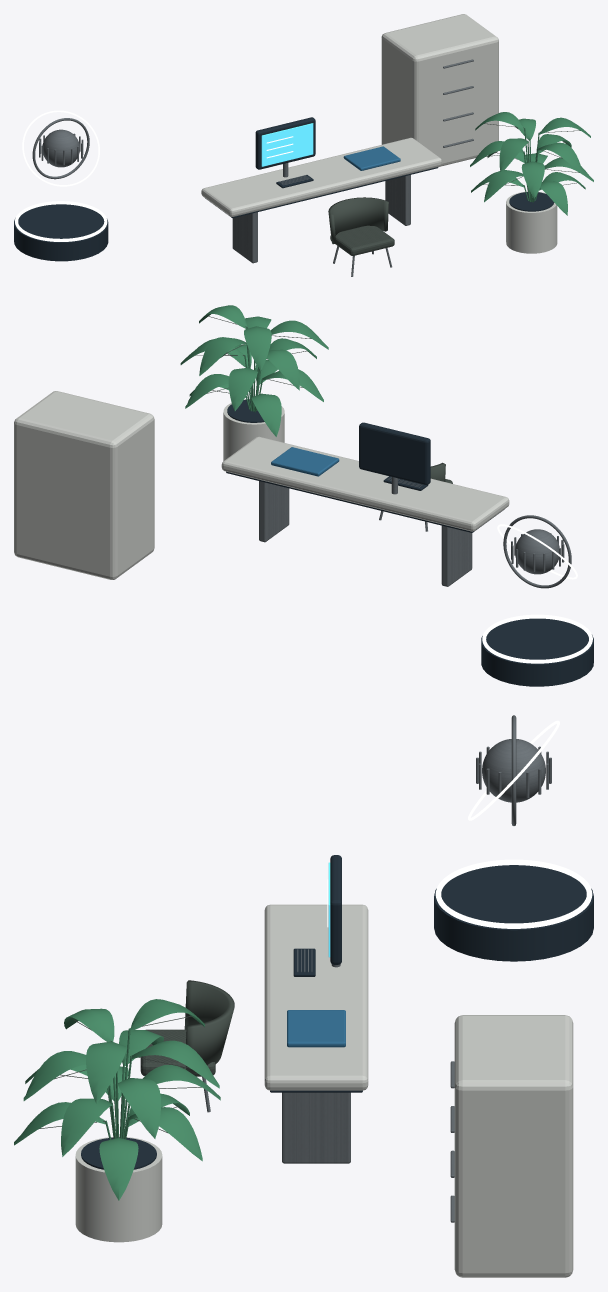
File: founder.glb
3 views of the same model, one above another, from view 1: azimuth 30°, elevation 25°; view 2: azimuth 150°, elevation 25°; view 3: azimuth 270°, elevation 25° (orthographic). The views are drawn at different scales.
Visible parts, largest first — view 1: Static_founder, Float_Core.002, Spin_OrbitA.002, Spin_OrbitB.002; view 2: Static_founder, Float_Core.002, Spin_OrbitA.002; view 3: Static_founder, Float_Core.002.
Boxes of the visible parts, <box> form: Static_founder: <box>14,14,593,276</box>; Float_Core.002: <box>42,129,79,167</box>; Spin_OrbitA.002: <box>32,118,89,179</box>; Spin_OrbitB.002: <box>22,110,99,186</box>; Static_founder: <box>14,305,593,686</box>; Float_Core.002: <box>515,529,559,574</box>; Spin_OrbitA.002: <box>503,515,571,588</box>; Static_founder: <box>14,746,593,1277</box>; Float_Core.002: <box>482,739,545,802</box>.
Size of the model in its own units: 9.16 by 2.36 by 5.87.
Materials: 10 (3 with a texture image).
